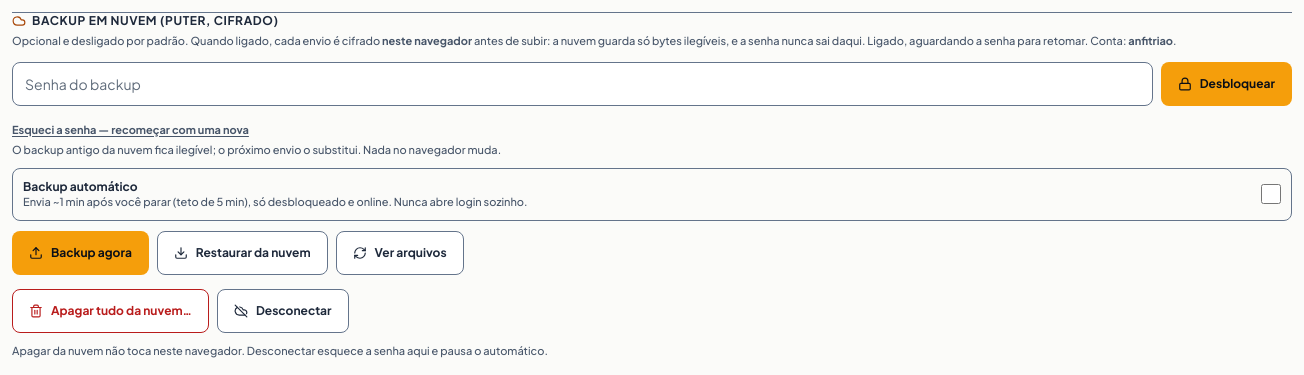
Test case: CloudBackupSection › forgotten password restarts with a new one, fully offline
In the password field labelled "Senha do backup": (582, 84) x1=12 y1=62 x2=1153 y2=106, type "nova frase secreta bem longa"
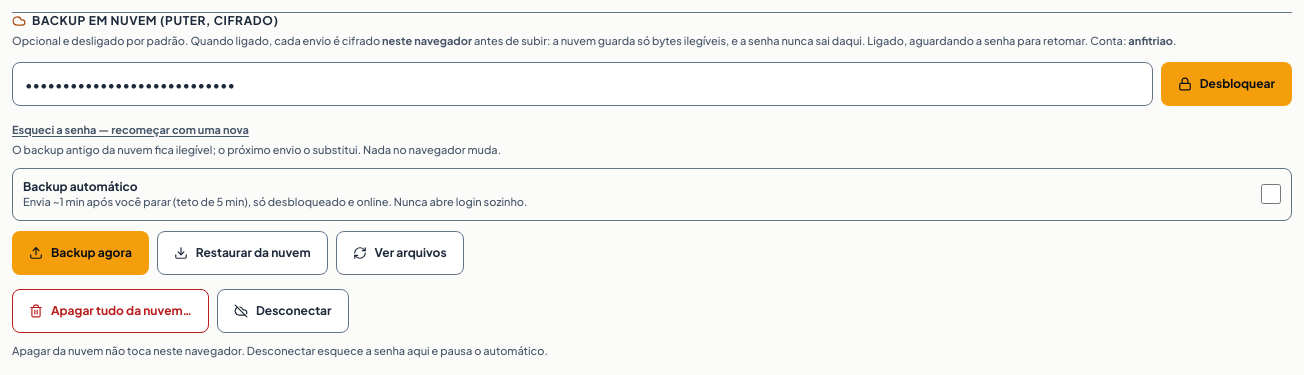
Click the button "Esqueci a senha — recomeçar com uma nova": (130, 130) x1=12 y1=122 x2=249 y2=138
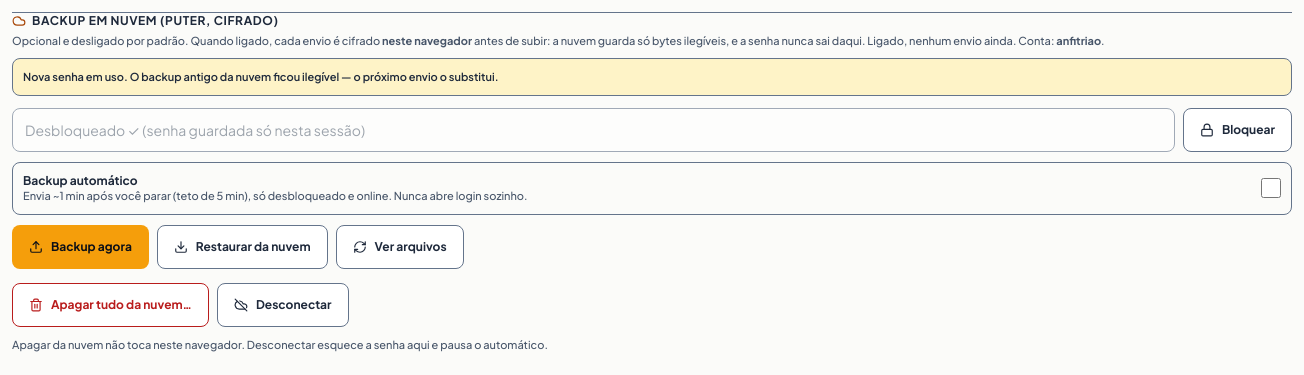
Expected: the button "Bloquear" is shown, x1=1183 y1=108 x2=1292 y2=152
Expected: the text "próximo envio o substitui" is shown, x1=23 y1=70 x2=498 y2=82
